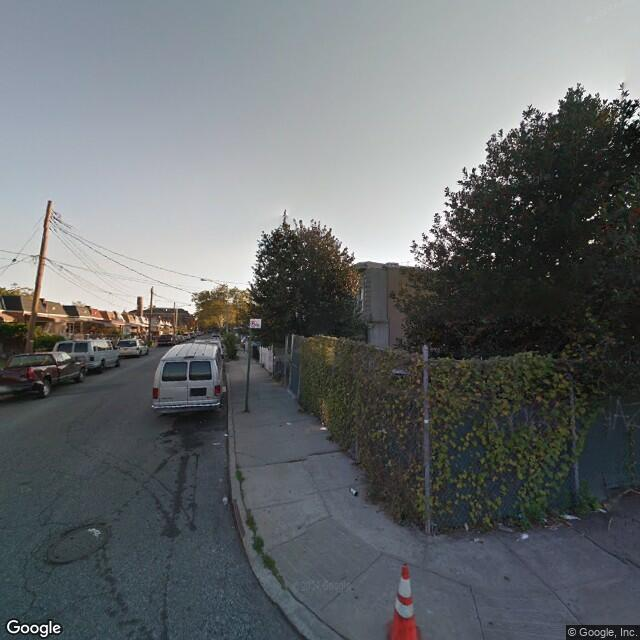litter: (349, 486, 358, 498), (562, 514, 577, 521), (598, 506, 610, 514), (319, 425, 329, 433), (222, 495, 229, 506), (518, 533, 530, 539), (285, 419, 292, 428), (223, 433, 228, 439)
